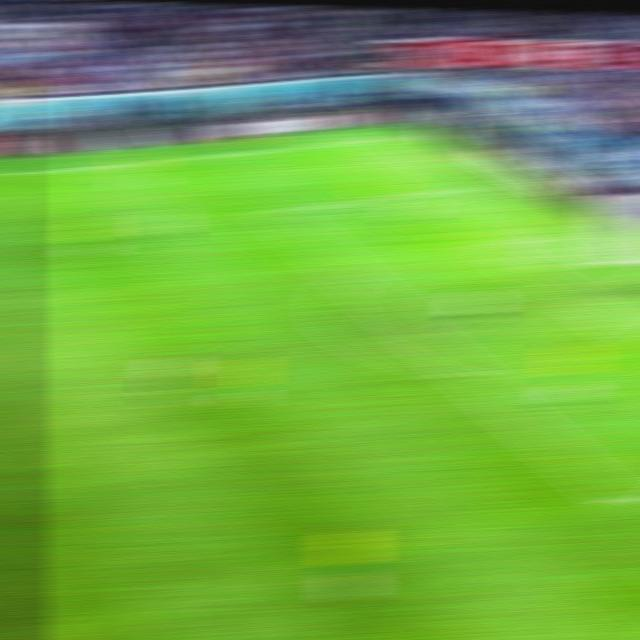bigarea_bottom_inner: (602, 496, 634, 507)
bigarea_top_inner: (259, 208, 290, 217)
bigarea_top_outter: (460, 185, 488, 190)
bottom_arc_area_intersection: (454, 372, 485, 381)
corner: (374, 135, 407, 141)
smallarea_top_inner: (476, 242, 507, 251)
smallarea_top_outter: (543, 232, 573, 238)
top_arc_area_intersection: (337, 272, 368, 283)
